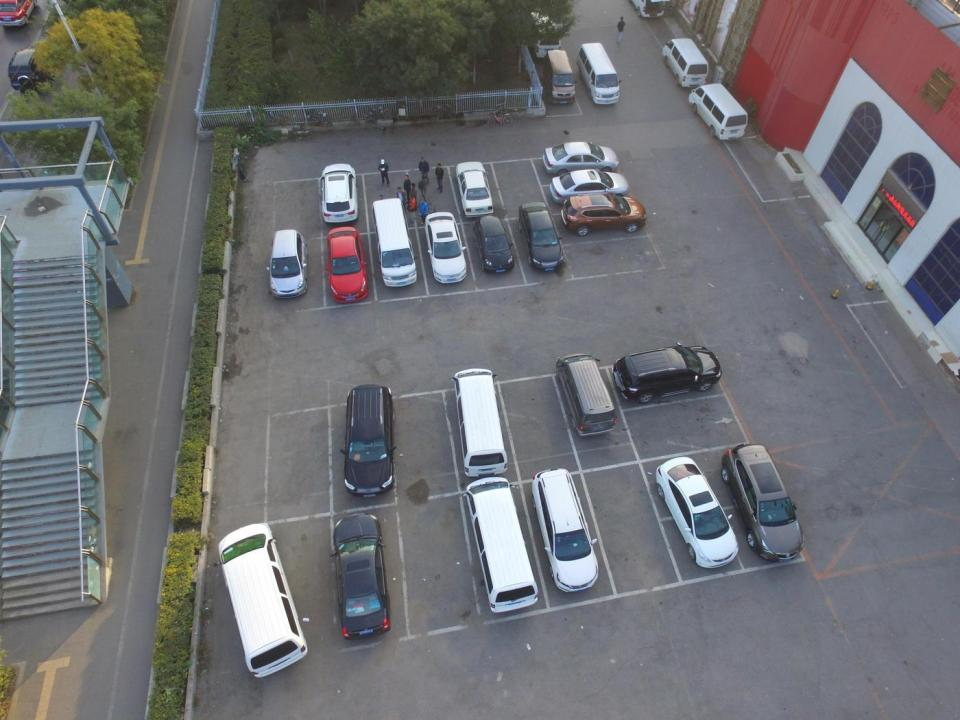car: (218, 523, 308, 677), (721, 444, 806, 561), (465, 477, 538, 612), (654, 457, 738, 570), (532, 470, 600, 593), (334, 512, 392, 640), (611, 345, 721, 404), (344, 384, 395, 497), (560, 194, 645, 236), (517, 202, 564, 272), (325, 226, 366, 303), (424, 212, 466, 282), (471, 213, 515, 274), (550, 170, 629, 202), (320, 164, 361, 225), (542, 144, 618, 176), (455, 161, 495, 218), (7, 45, 52, 94), (1, 0, 37, 27)
van: (450, 367, 509, 476), (554, 352, 617, 437), (370, 198, 418, 286), (689, 82, 746, 139), (264, 227, 306, 296), (578, 42, 620, 104), (662, 39, 708, 86), (545, 50, 578, 103), (529, 12, 561, 57), (635, 0, 668, 18)
